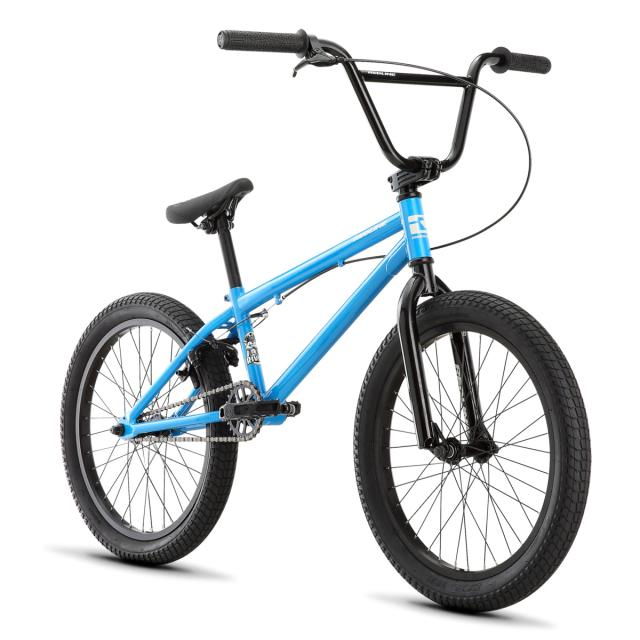bmx-bike: (55, 27, 596, 619)
